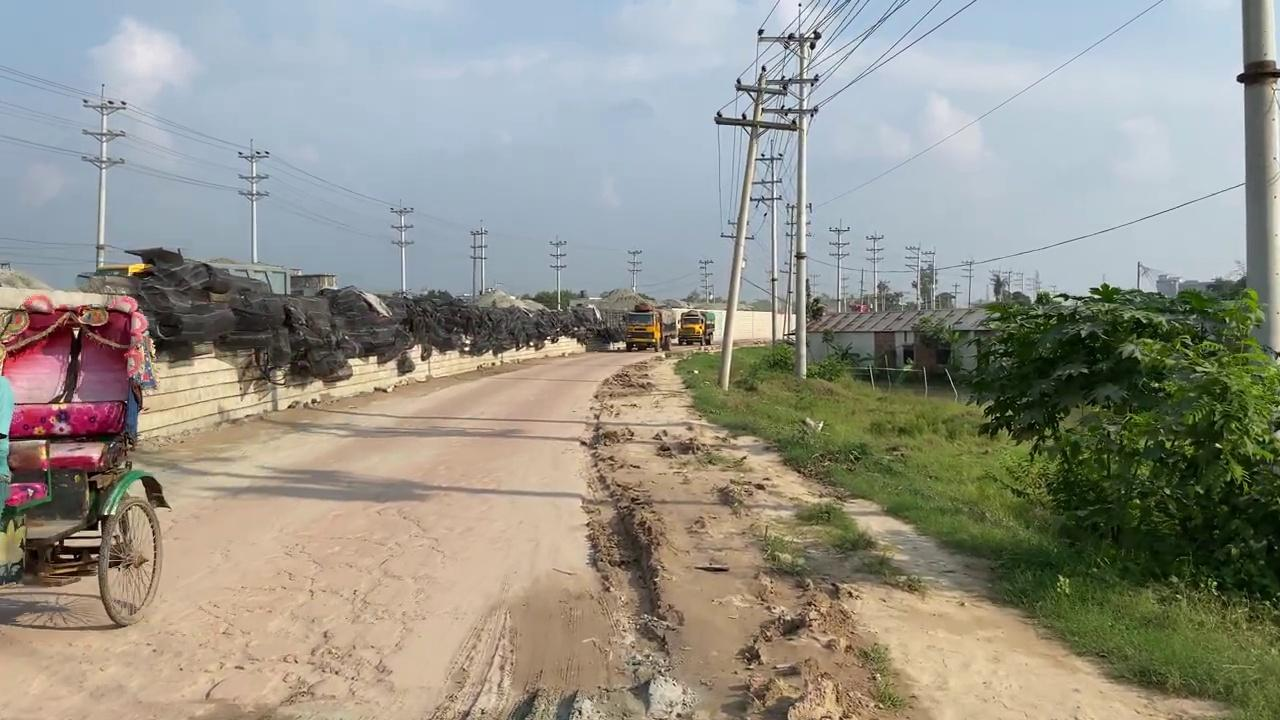Pole: (717, 65, 766, 391), (1238, 0, 1279, 359)
Railroad-crossing: (0, 284, 171, 628)
Rickshaw: (587, 348, 1231, 718)
Traffic-sign: (955, 278, 1279, 606)
Tree: (75, 246, 338, 297), (623, 309, 661, 351)
Upstairs: (72, 246, 619, 387)
